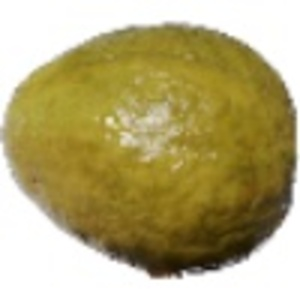goiaba: (1, 14, 291, 272)
